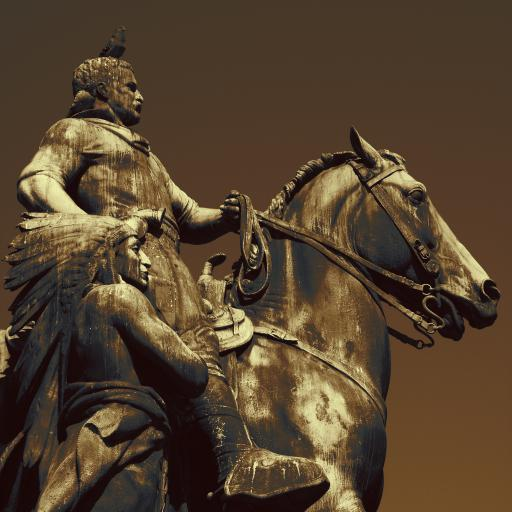horse: (0, 124, 504, 512)
